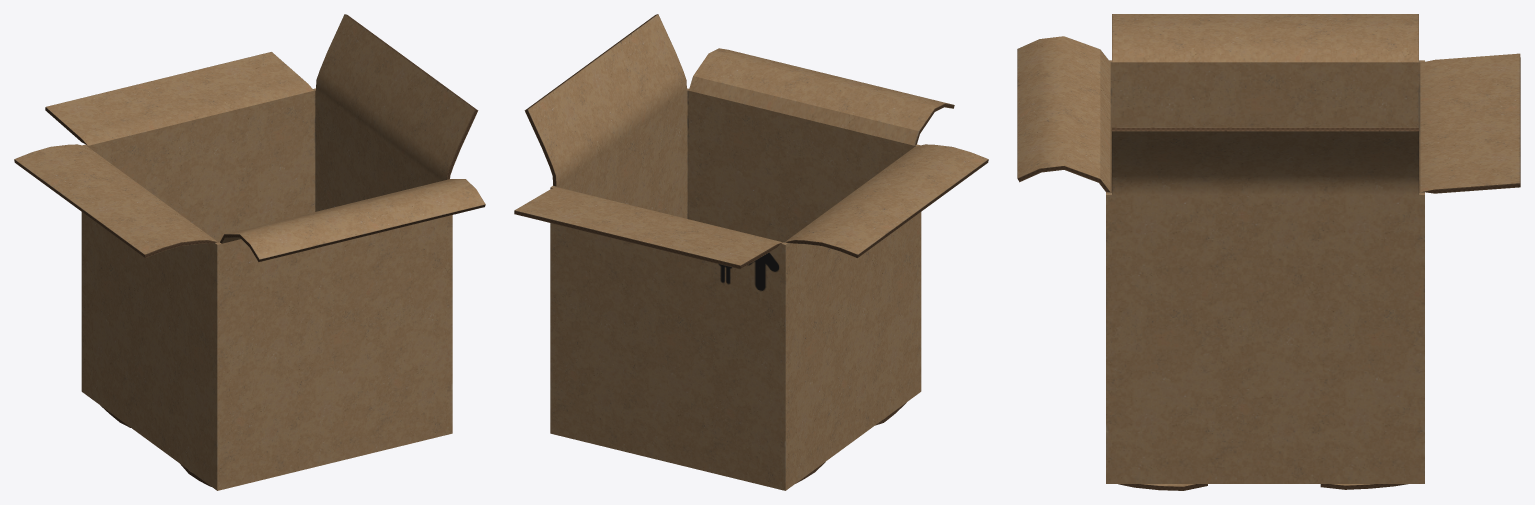
Rendered from Cardboard Box_1.fbx.
3 views of the same model, side by side, from view 1: azimuth 30°, elevation 25°; view 2: azimuth 150°, elevation 25°; view 3: azimuth 270°, elevation 25° (orthographic). The views are drawn at different scales.
Parts seen in each view (by area): view 1: Box_Lo.001; view 2: Box_Lo.001; view 3: Box_Lo.001.
Boxes of the visible parts, x1=… form: Box_Lo.001: x1=14, y1=14, x2=485, y2=490; Box_Lo.001: x1=514, y1=14, x2=988, y2=490; Box_Lo.001: x1=1017, y1=14, x2=1520, y2=490.
Size of the model in its own units: 369 by 342 by 410.
